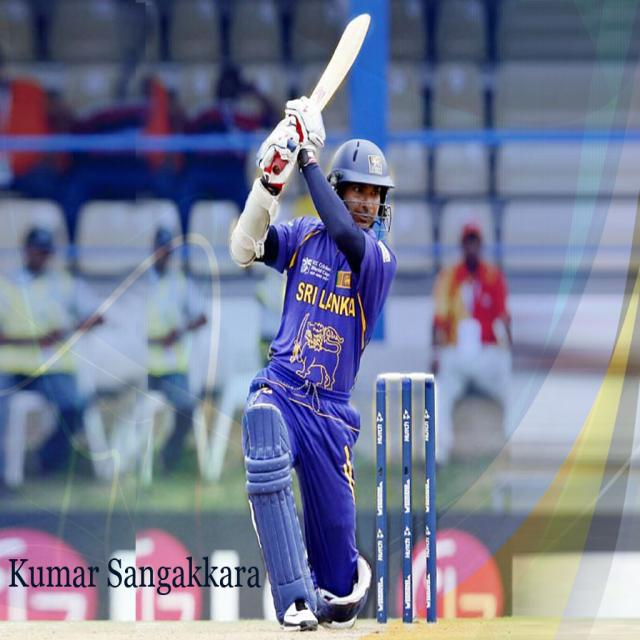stump: (374, 370, 438, 623)
